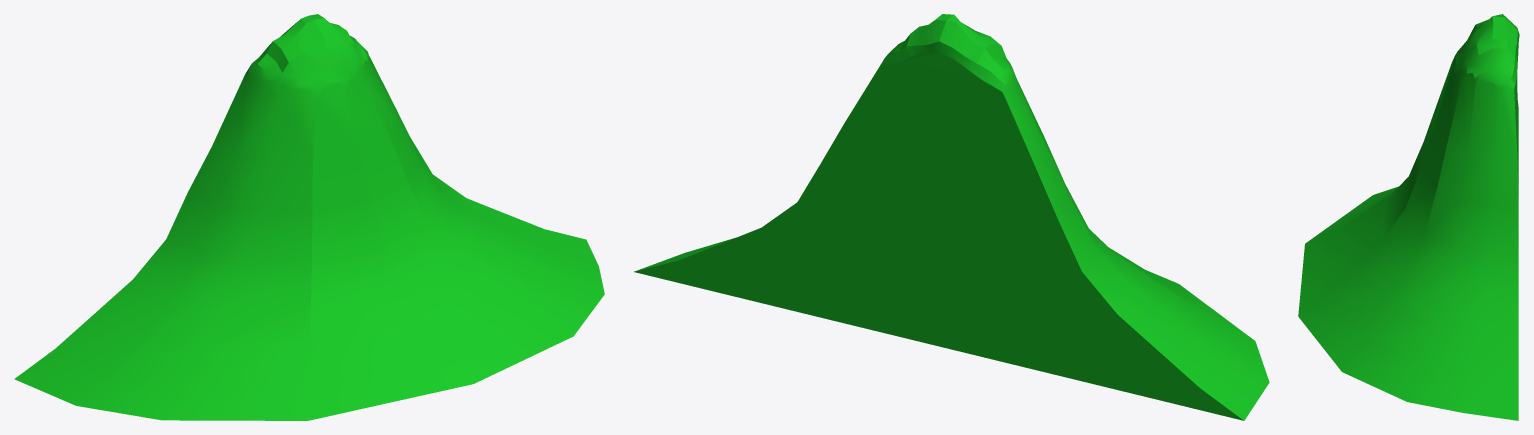
The model's file is montaña2 (1).glb.
3 views of the same model, side by side, from view 1: azimuth 30°, elevation 25°; view 2: azimuth 150°, elevation 25°; view 3: azimuth 270°, elevation 25° (orthographic). The views are drawn at different scales.
Parts seen in each view (by area): view 1: TableroBase.001; view 2: TableroBase.001; view 3: TableroBase.001.
Part boxes in pixels (x1,y1,x2,y2): TableroBase.001: [14, 14, 604, 420]; TableroBase.001: [634, 14, 1269, 420]; TableroBase.001: [1298, 14, 1519, 420].
Size of the model in its own units: 16.03 by 8.04 by 5.84.
